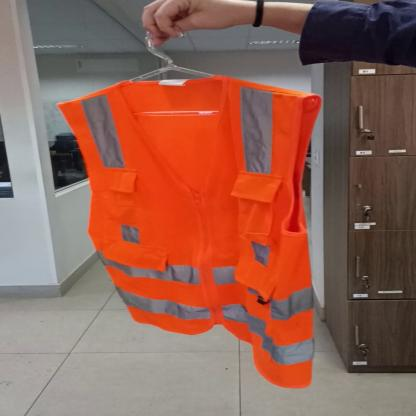colete: (55, 68, 321, 391)
